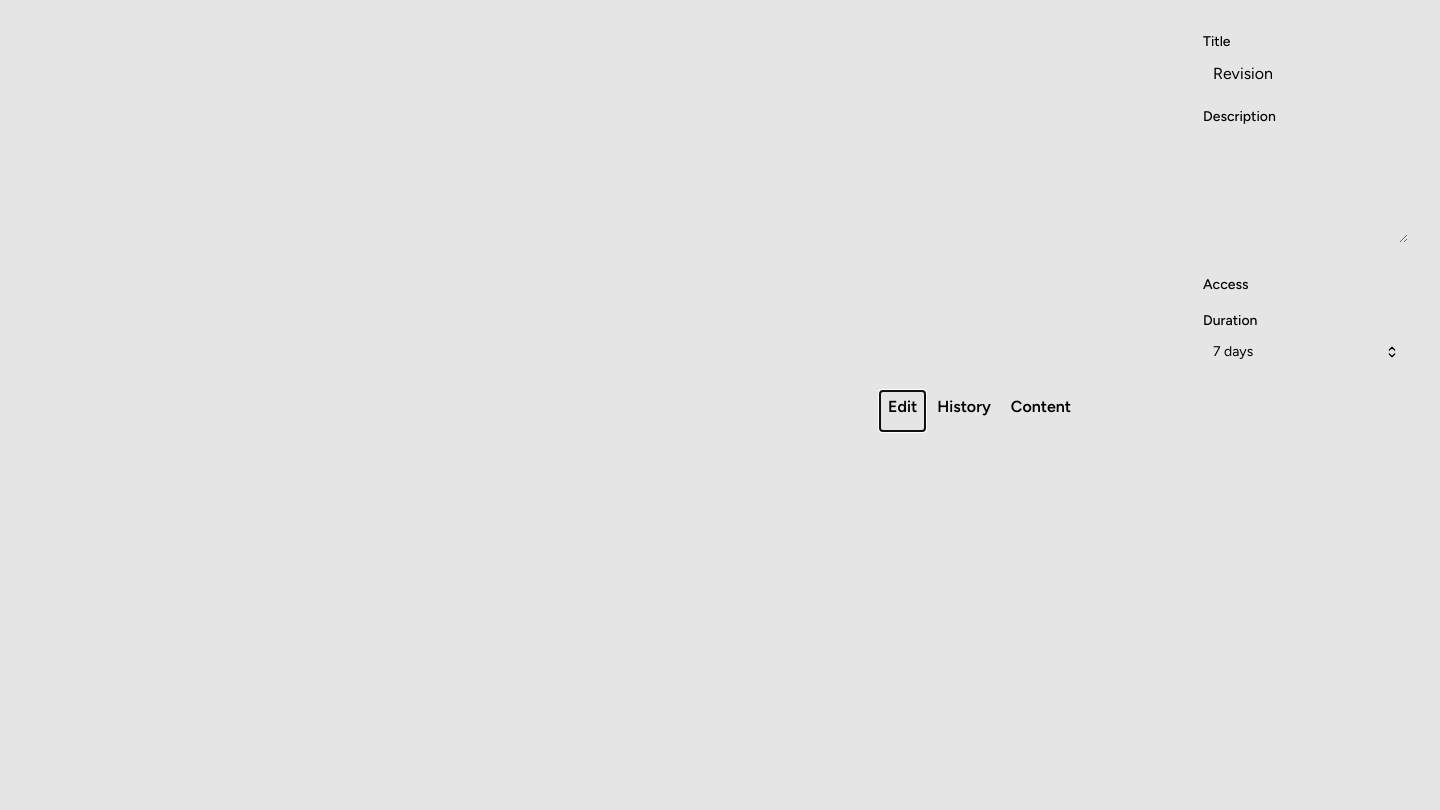
Test case: loads history only from its tab
Expected: the field labelled "Title" is shown, [1203, 55, 1408, 91]
Press the mouse on the tab "History" at [964, 411], box [929, 391, 999, 431]
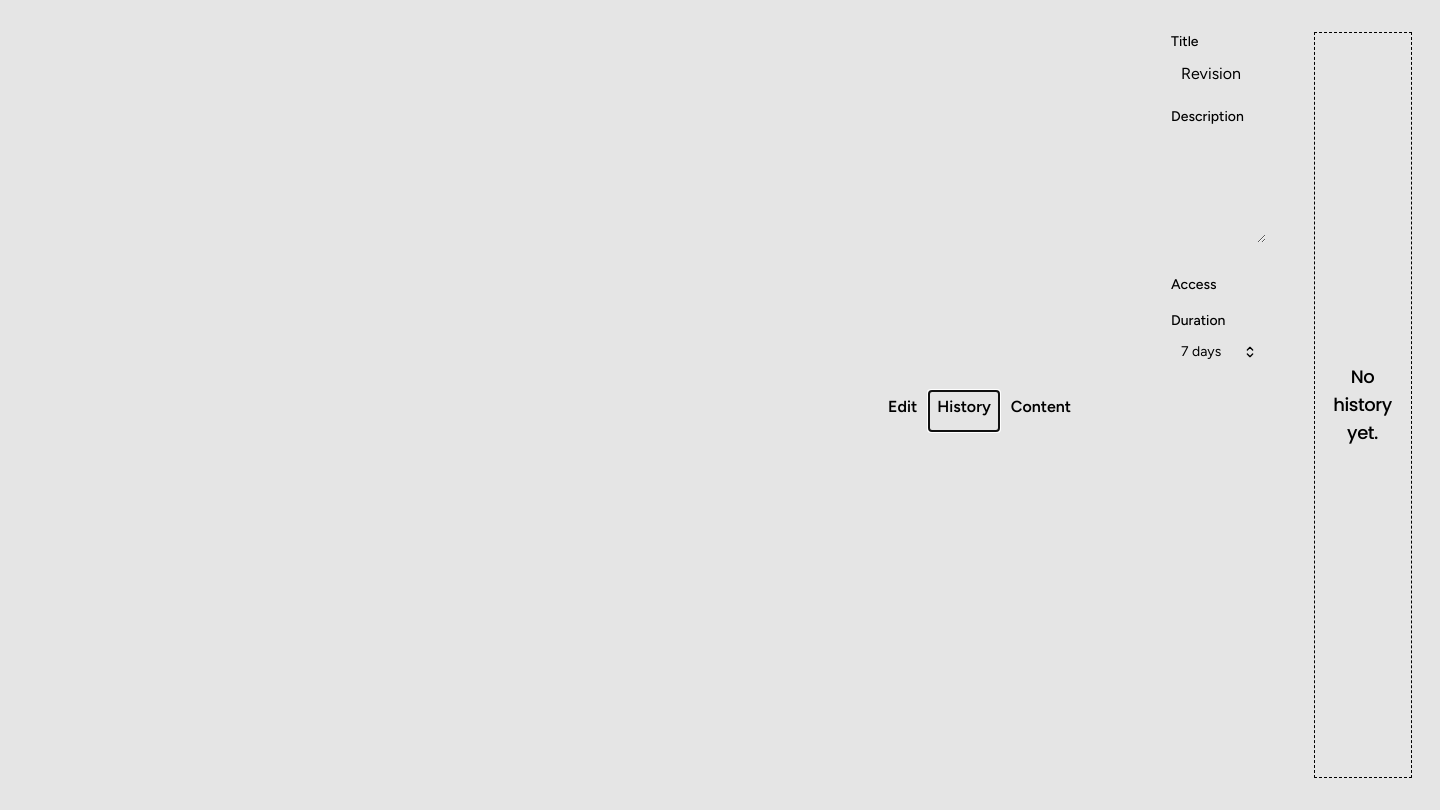
Expected: the text "No history yet." is shown, [1333, 363, 1392, 447]
